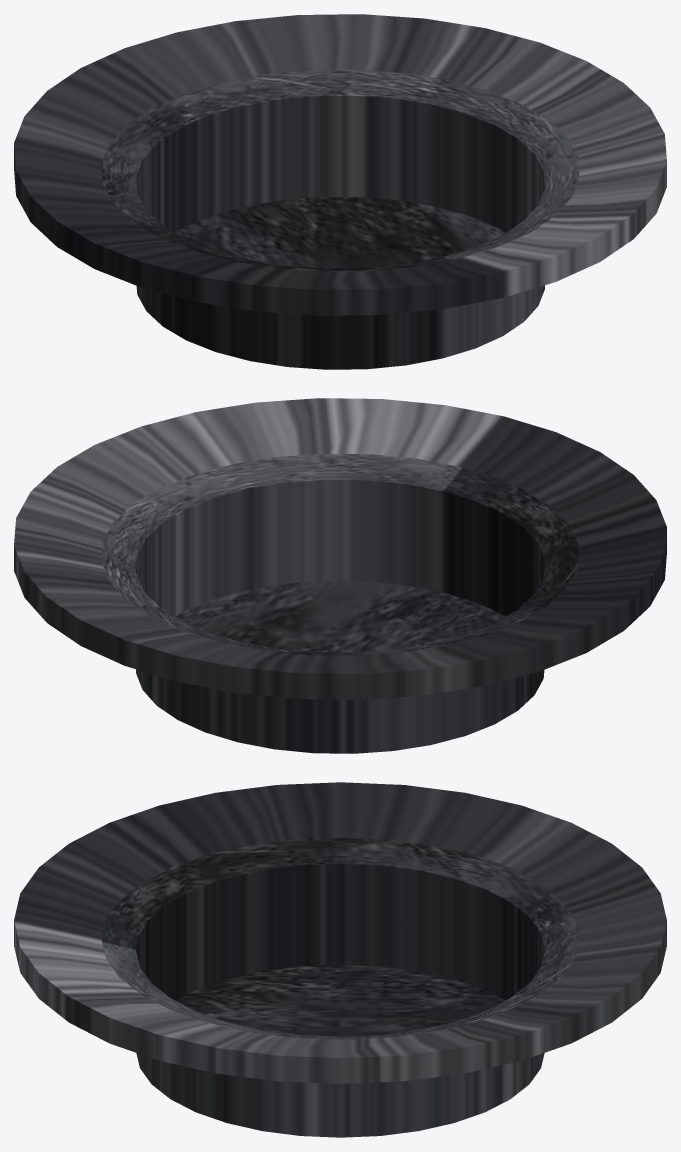
Rendered from hoyo.obj.
3 views of the same model, one above another, from view 1: azimuth 30°, elevation 25°; view 2: azimuth 150°, elevation 25°; view 3: azimuth 270°, elevation 25° (orthographic).
Visible parts, largest first — view 1: Cylinder_Material.008; view 2: Cylinder_Material.008; view 3: Cylinder_Material.008.
Part boxes in pixels (x1,y1,x2,y2): Cylinder_Material.008: (14, 14, 666, 369); Cylinder_Material.008: (14, 398, 666, 753); Cylinder_Material.008: (14, 782, 666, 1137).
Size of the model in its own units: 3.19 by 0.7065 by 3.19.
